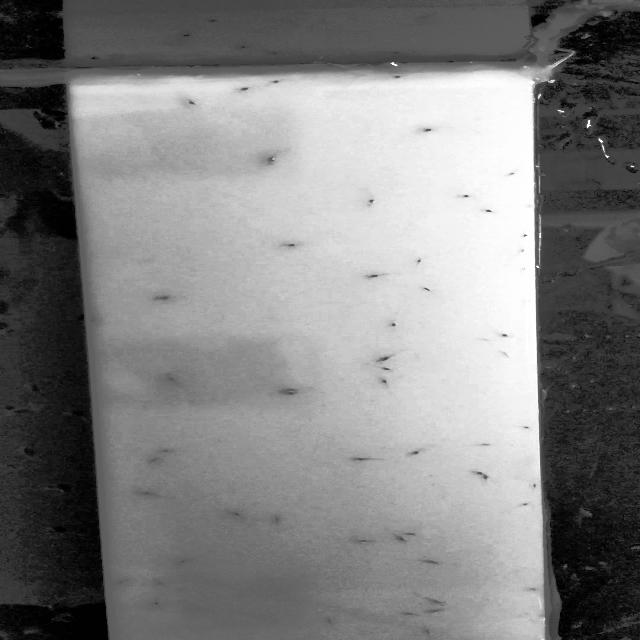shrimp: (493, 347, 519, 363), (134, 488, 163, 500), (367, 376, 398, 387), (365, 353, 399, 363), (384, 319, 409, 332), (283, 242, 308, 254), (487, 330, 517, 340), (157, 372, 184, 383), (279, 388, 303, 400), (401, 530, 429, 540), (364, 270, 387, 282), (406, 256, 429, 268), (264, 513, 284, 525), (424, 596, 448, 606), (515, 496, 532, 510), (361, 196, 382, 207), (185, 96, 204, 108), (86, 315, 106, 326), (269, 155, 288, 166), (351, 454, 370, 465), (374, 364, 397, 373), (420, 557, 440, 567), (153, 294, 175, 303), (510, 421, 532, 430), (473, 440, 495, 449), (420, 123, 436, 135), (385, 72, 406, 81), (352, 536, 368, 547), (404, 448, 423, 457), (420, 284, 437, 294), (389, 532, 406, 542), (228, 510, 246, 519), (175, 558, 192, 567), (478, 206, 497, 214), (457, 194, 475, 202), (146, 456, 162, 465), (159, 446, 173, 456), (116, 578, 130, 588), (401, 611, 418, 619), (266, 79, 285, 86), (482, 473, 494, 484), (192, 604, 205, 614), (237, 86, 253, 94), (283, 386, 299, 393), (474, 470, 488, 478), (323, 617, 339, 624), (429, 607, 443, 615), (154, 579, 166, 588), (530, 482, 543, 490), (504, 170, 515, 178), (422, 628, 433, 636), (149, 600, 163, 606)
